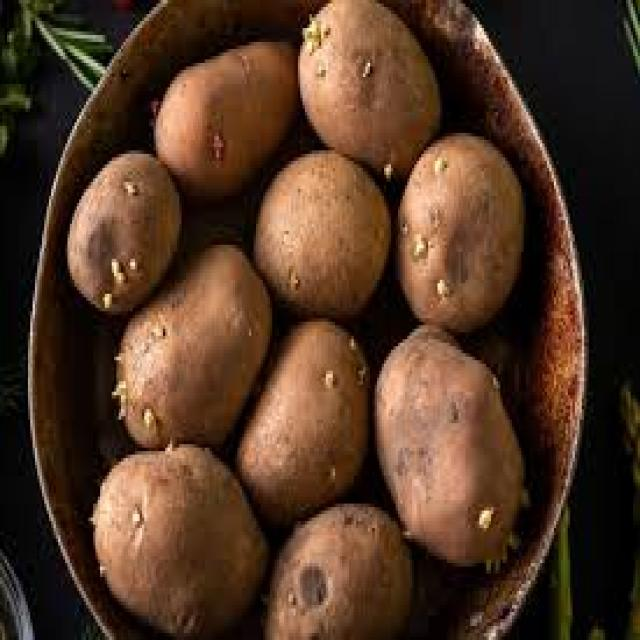Potato: (80, 404, 310, 640), (381, 332, 534, 600), (247, 129, 425, 346), (110, 225, 266, 434), (69, 150, 195, 321)
